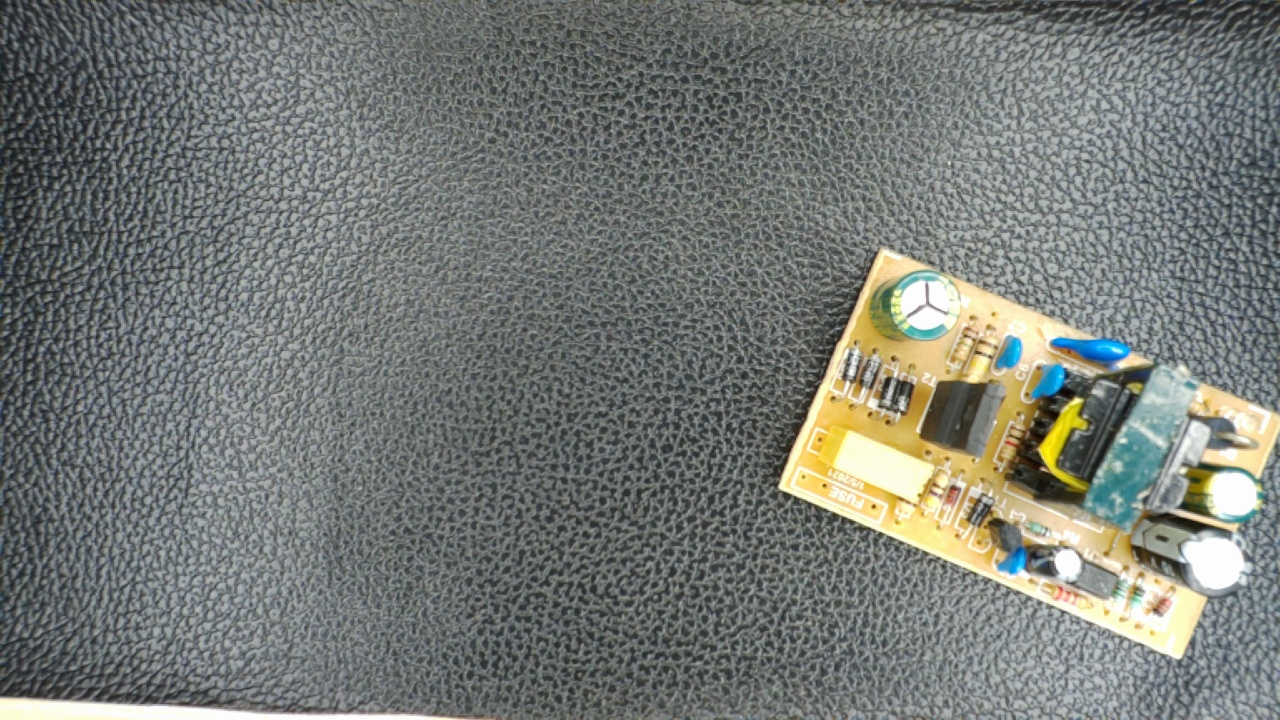hv_capacitor: (867, 267, 965, 342)
mov: (1047, 332, 1136, 369)
optocoupler: (1076, 554, 1122, 603)
